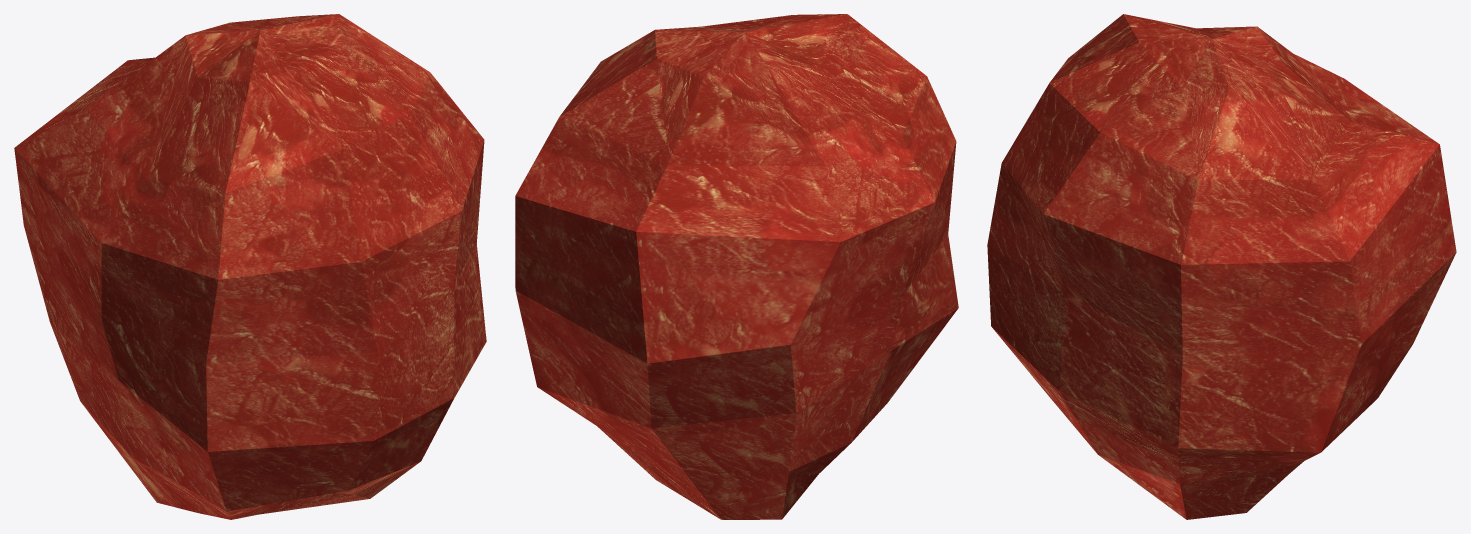
File: Gib1.fbx
3 views of the same model, side by side, from view 1: azimuth 30°, elevation 25°; view 2: azimuth 150°, elevation 25°; view 3: azimuth 270°, elevation 25° (orthographic). The views are drawn at different scales.
Parts seen in each view (by area): view 1: Sphere; view 2: Sphere; view 3: Sphere.
Part boxes in pixels (bbox=[...]): Sphere: bbox=[14, 14, 486, 519]; Sphere: bbox=[515, 14, 958, 519]; Sphere: bbox=[987, 14, 1456, 519].
Size of the model in its own units: 26.52 by 31.76 by 30.54.
1 material, 1 textured.
